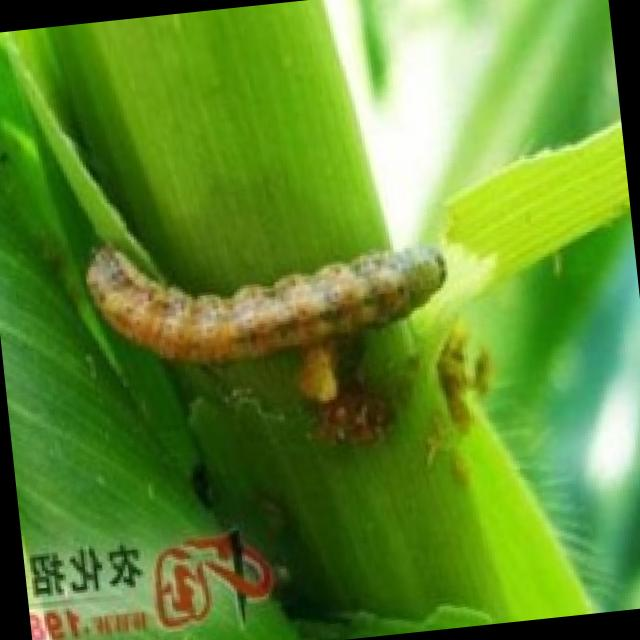armyworm: (61, 203, 476, 384)
